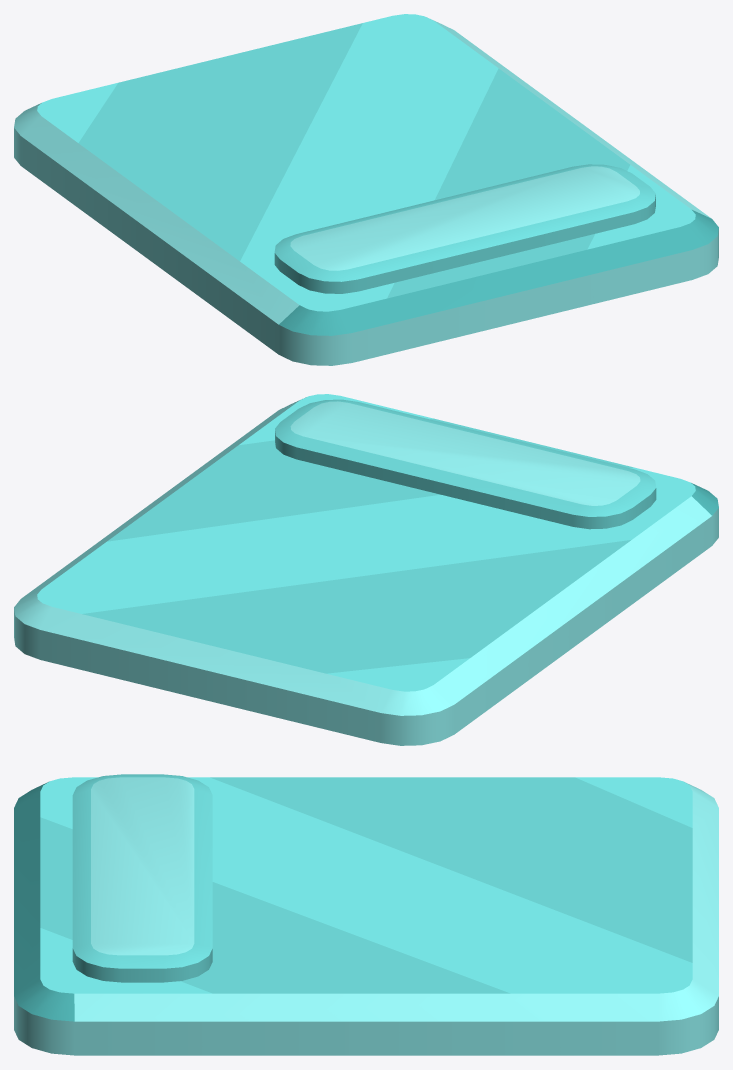
Rendered from Merge-2LvL.fbx.
3 renders of one model, top to bottom at view 1: azimuth 30°, elevation 25°; view 2: azimuth 150°, elevation 25°; view 3: azimuth 270°, elevation 25°, orthographic. The views are drawn at different scales.
Parts seen in each view (by area): view 1: Plane.003; view 2: Plane.003; view 3: Plane.003.
Part boxes in pixels (left/top/right/bottom): Plane.003: left=14, top=14, right=718, bottom=365; Plane.003: left=14, top=394, right=718, bottom=745; Plane.003: left=14, top=774, right=718, bottom=1055.
Size of the model in its own units: 763 by 103 by 950.
